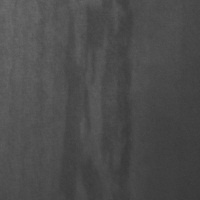inclusion: (59, 0, 131, 199)
